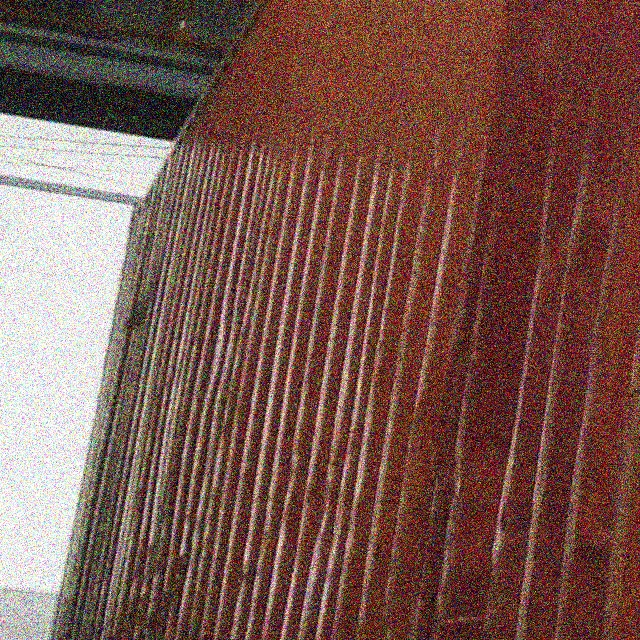Dent: (425, 81, 596, 640)
